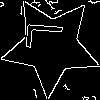L: (26, 21, 72, 52)
